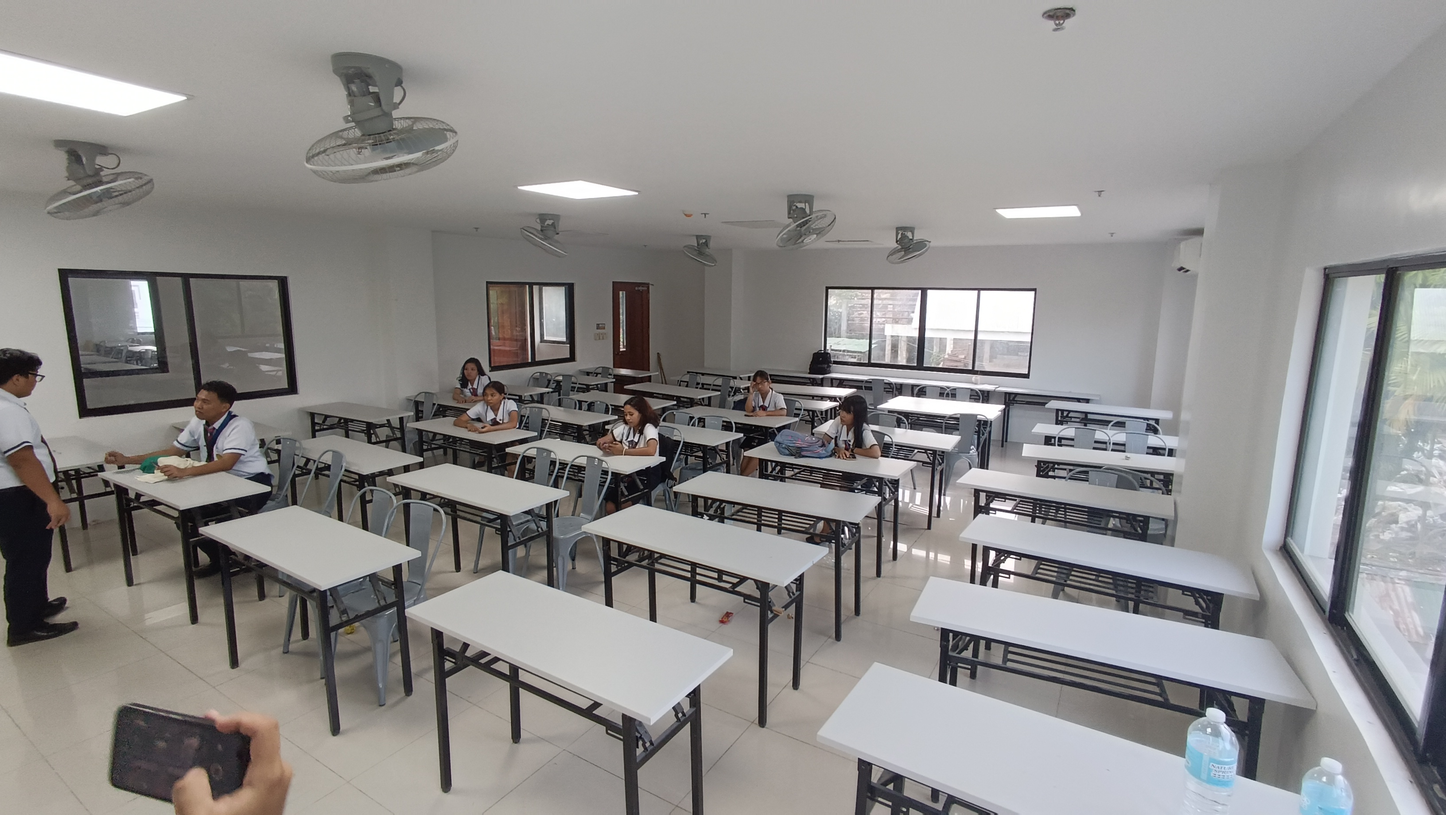with-student: (99, 379, 274, 523), (747, 392, 917, 490), (503, 395, 668, 488), (405, 380, 539, 451), (676, 369, 799, 434), (407, 358, 513, 416)
